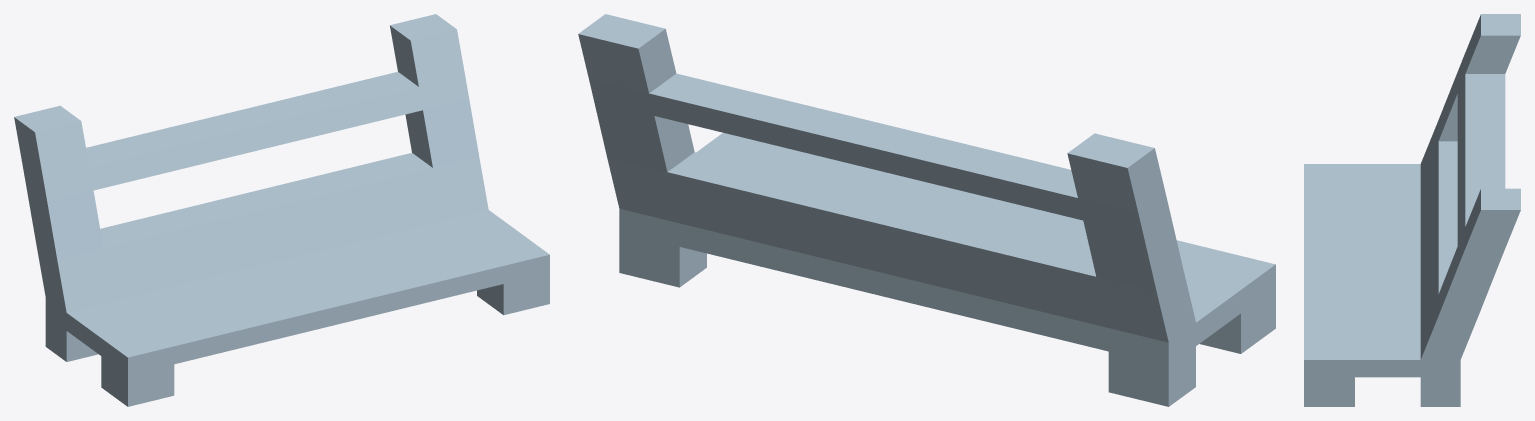
The model's file is bench_cute.fbx.
3 views of the same model, side by side, from view 1: azimuth 30°, elevation 25°; view 2: azimuth 150°, elevation 25°; view 3: azimuth 270°, elevation 25° (orthographic). The views are drawn at different scales.
Visible parts, largest first — view 1: bench_cute; view 2: bench_cute; view 3: bench_cute.
Boxes of the visible parts, <box> form: bench_cute: <box>14,14,549,406</box>; bench_cute: <box>578,14,1275,406</box>; bench_cute: <box>1304,14,1520,406</box>.
Size of the model in its own units: 2.97 by 1.39 by 1.39.
